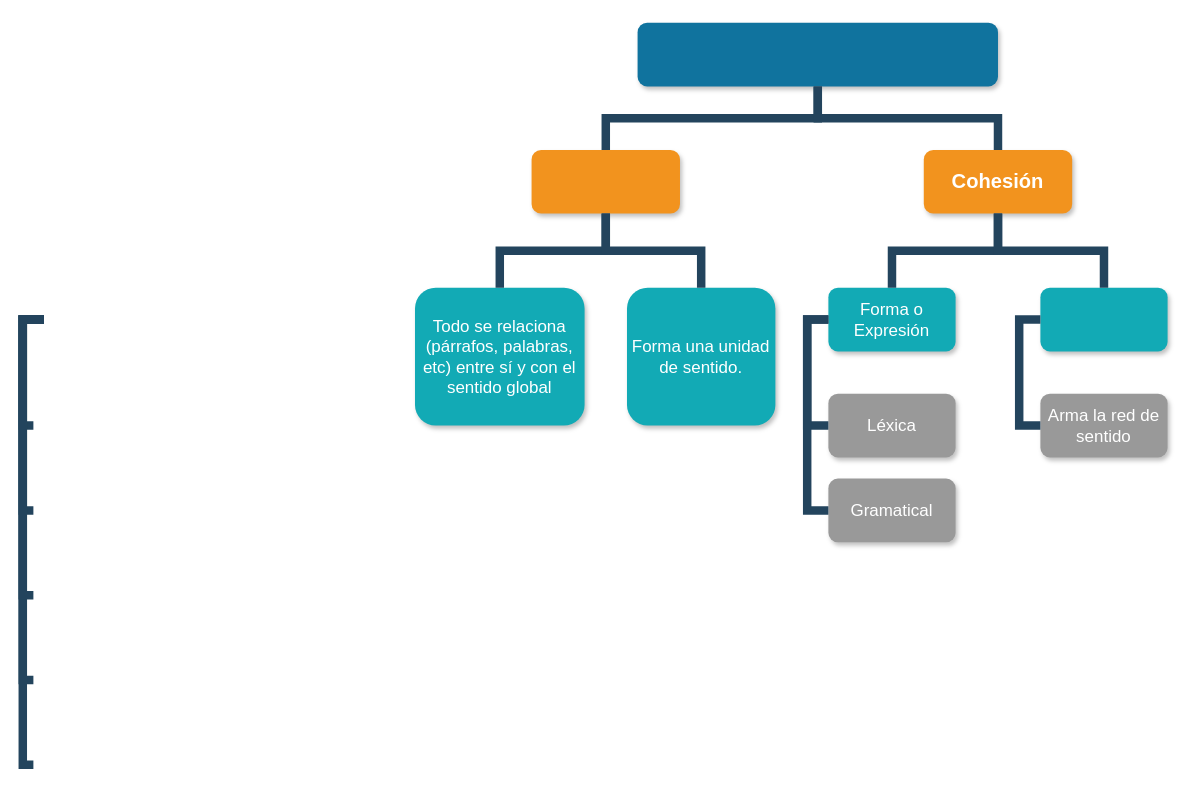
This 1191x788 diagram has some shape labels left out. The centre of each missing label's shape, as x and y in pixels:
"Coherencia" belongs at point 606,182.
"Hace perceptible la coherencia" belongs at point 1104,320.
"Texto" belongs at point 818,55.
